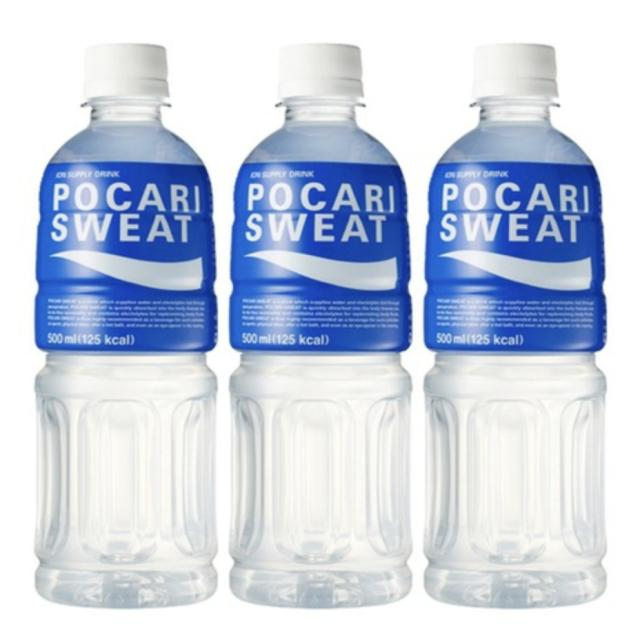recyclable: (21, 26, 231, 619), (216, 27, 420, 618), (413, 27, 615, 620)
